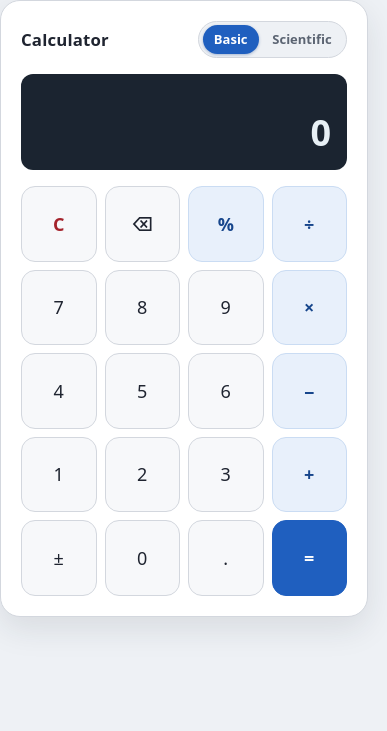
Test: Calculator calculations › applies the reciprocal as one divided by the value
The width and height of the screenshot is (387, 731).
Click the button "Scientific".
click(302, 40)  # box left=261, top=25, right=343, bottom=54
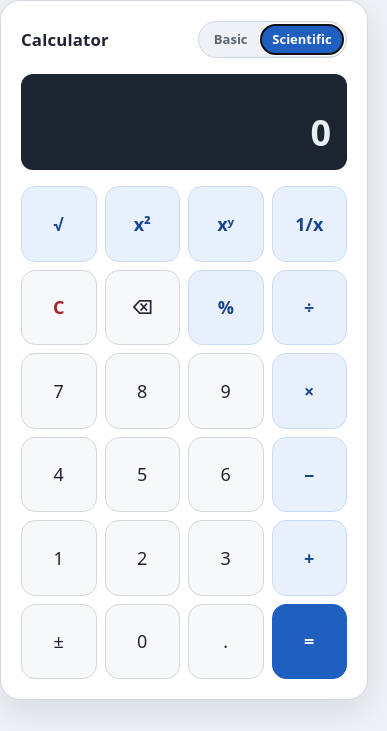
Click the button "4".
click(59, 475)  # box left=21, top=437, right=96, bottom=512
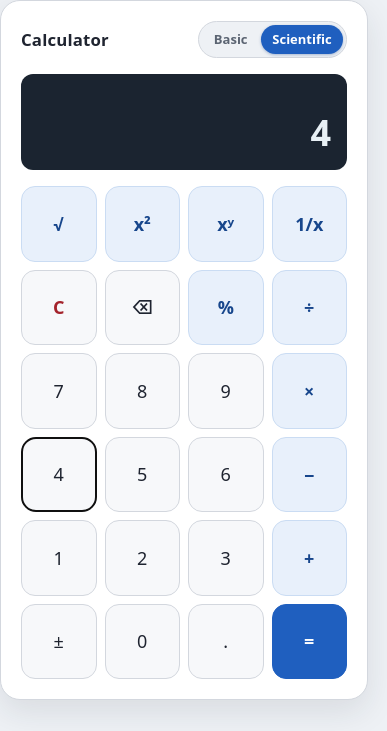
Click the button named "Reciprocal".
click(309, 224)  # box left=272, top=186, right=347, bottom=262
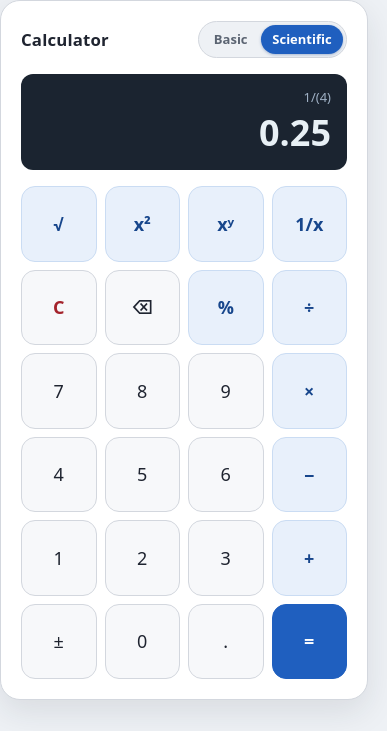
Result: the text "0.25" is shown at left=259, top=112, right=331, bottom=154
